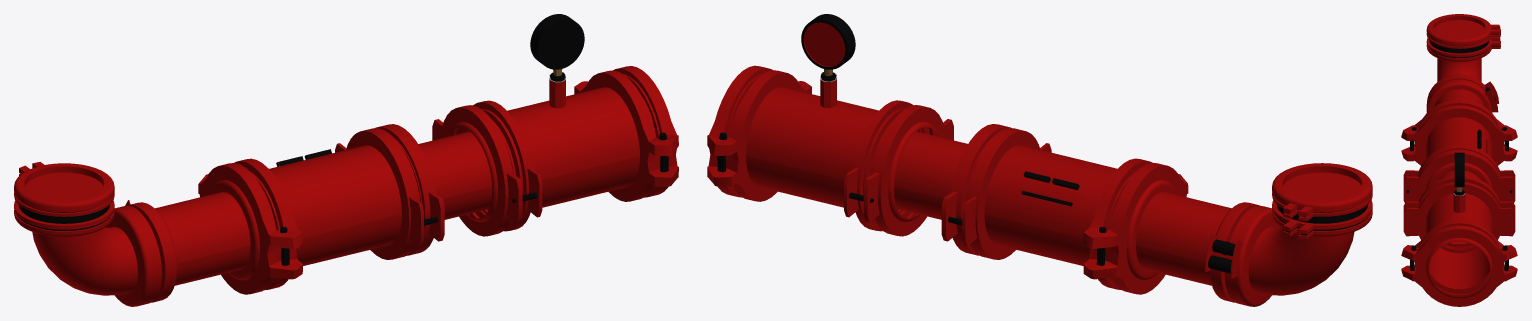
The model's file is Curved Pipe Attached to Meter.fbx.
The picture shows the model from 3 angles, left to right: view 1: azimuth 30°, elevation 25°; view 2: azimuth 150°, elevation 25°; view 3: azimuth 270°, elevation 25°; orthographic projection. The views are drawn at different scales.
Parts seen in each view (by area): view 1: 1st_Pipe, Pipe_Meter, Tube_2; view 2: 1st_Pipe, Pipe_Meter, Tube_2; view 3: Pipe_Meter, 1st_Pipe, Tube_2.
Boxes of the visible parts, box(x1,y1,x2,y2) form: 1st_Pipe: box(155, 124, 492, 294); Pipe_Meter: box(432, 14, 678, 236); Tube_2: box(14, 162, 176, 306); 1st_Pipe: box(894, 124, 1231, 294); Pipe_Meter: box(707, 14, 953, 236); Tube_2: box(1204, 163, 1372, 306); Pipe_Meter: box(1401, 152, 1517, 306); 1st_Pipe: box(1401, 89, 1517, 242); Tube_2: box(1426, 14, 1500, 112).
Bounding box in the file's own units: 937 × 277 × 232.
